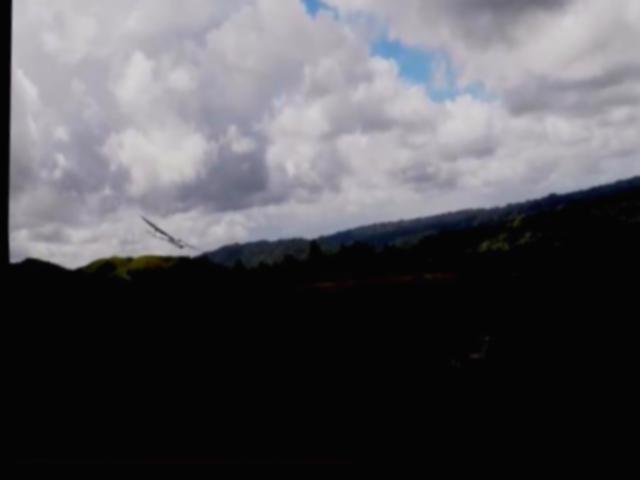iha: (128, 213, 205, 255)
